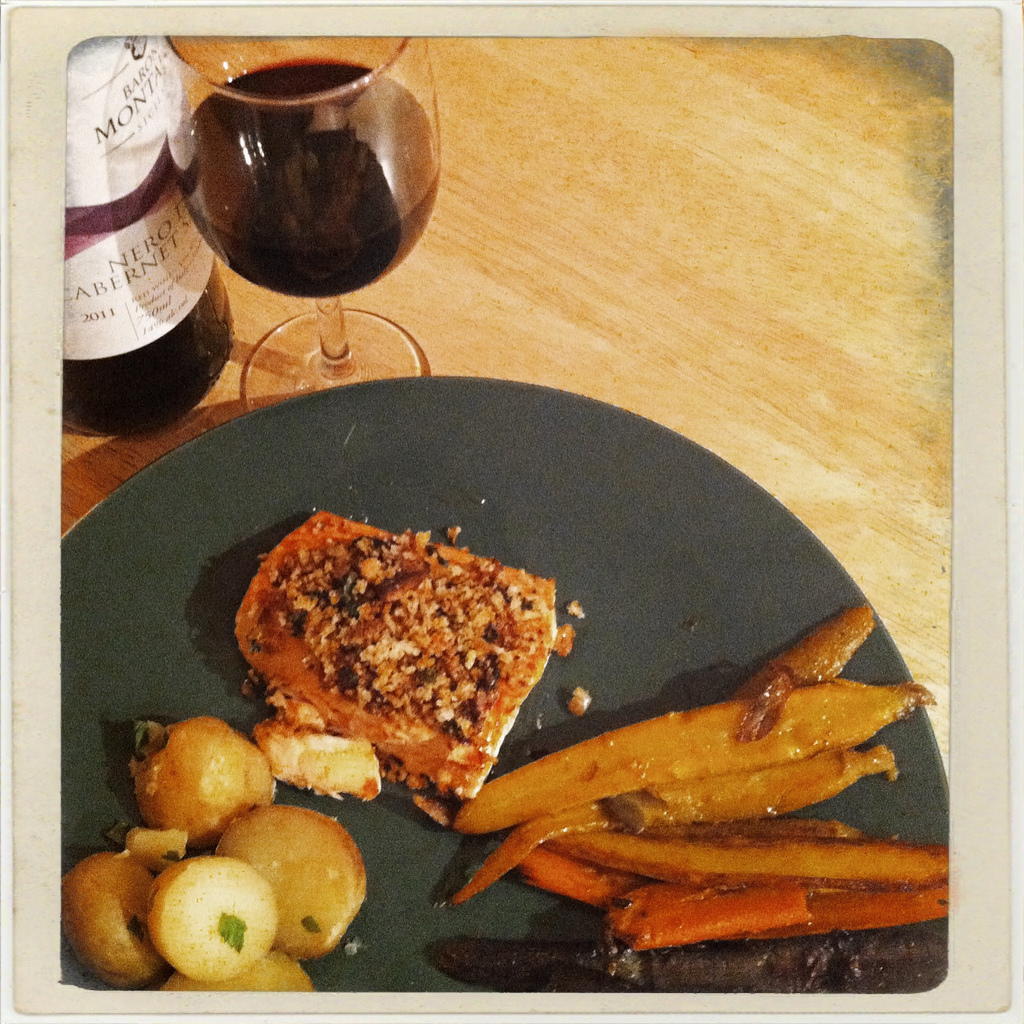boiled potatoes: (225, 788, 367, 962), (155, 850, 282, 984), (67, 857, 167, 976), (142, 723, 264, 820)
